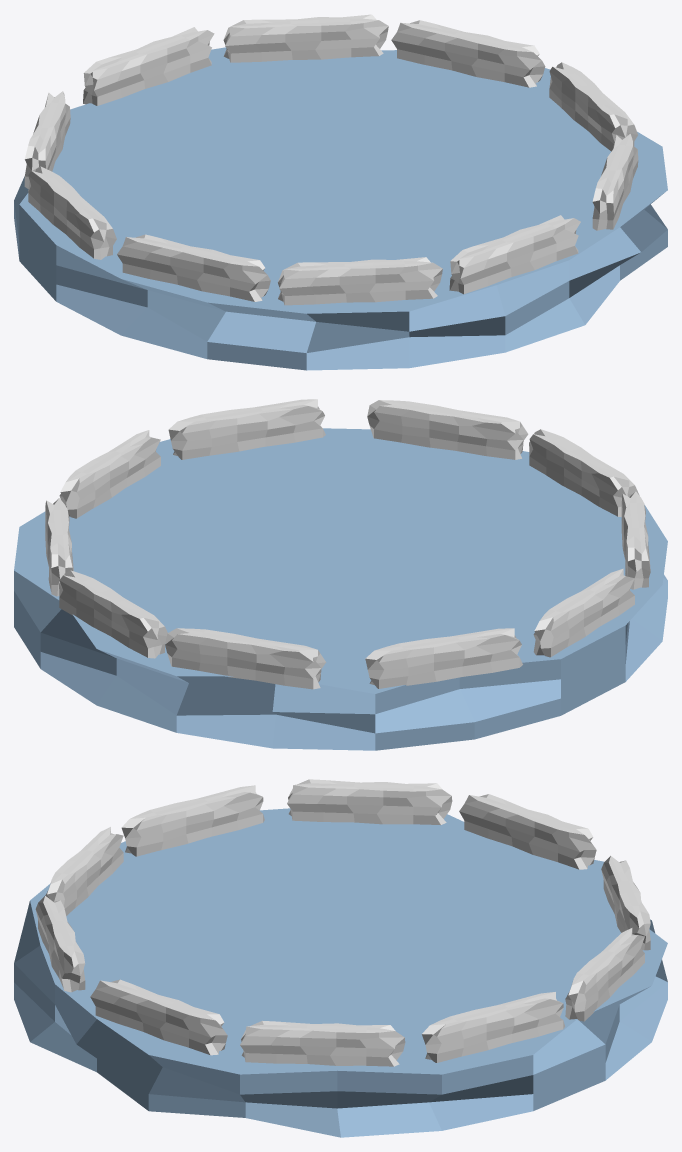
File: ArenaIced.gltf
3 renders of one model, top to bottom at view 1: azimuth 30°, elevation 25°; view 2: azimuth 150°, elevation 25°; view 3: azimuth 270°, elevation 25°, orthographic.
Parts seen in each view (by area): view 1: Cylinder, Cube.006, Cube.007, Cube.008, Cube.009, Cube.005, Cube.004, Cube.001, Cube, Cube.002, Cube.003; view 2: Cylinder, Cube.005, Cube.003, Cube.004, Cube.002, Cube.007, Cube.006, Cube.001, Cube, Cube.008, Cube.009; view 3: Cylinder, Cube.001, Cube, Cube.008, Cube.009, Cube.002, Cube.003, Cube.007, Cube.006, Cube.004, Cube.005.
Part boxes in pixels (x1=…): Cylinder: x1=14, y1=47, x2=667, y2=370; Cube.006: x1=277, y1=257, x2=442, y2=305; Cube.007: x1=223, y1=14, x2=388, y2=62; Cube.008: x1=117, y1=234, x2=270, y2=301; Cube.009: x1=391, y1=20, x2=545, y2=87; Cube.005: x1=83, y1=27, x2=214, y2=105; Cube.004: x1=449, y1=215, x2=580, y2=294; Cube.001: x1=28, y1=166, x2=116, y2=259; Cube: x1=549, y1=62, x2=637, y2=151; Cube.002: x1=592, y1=134, x2=638, y2=230; Cube.003: x1=24, y1=91, x2=70, y2=188; Cylinder: x1=14, y1=428, x2=667, y2=750; Cube.005: x1=165, y1=628, x2=326, y2=689; Cube.003: x1=365, y1=628, x2=522, y2=688; Cube.004: x1=367, y1=400, x2=528, y2=459; Cube.002: x1=168, y1=399, x2=325, y2=459; Cube.007: x1=59, y1=570, x2=167, y2=658; Cube.006: x1=529, y1=429, x2=639, y2=516; Cube.001: x1=533, y1=568, x2=634, y2=657; Cube: x1=59, y1=430, x2=160, y2=518; Cube.008: x1=621, y1=491, x2=650, y2=589; Cube.009: x1=45, y1=498, x2=73, y2=596; Cylinder: x1=14, y1=808, x2=667, y2=1137; Cube.001: x1=287, y1=779, x2=452, y2=825; Cube: x1=240, y1=1020, x2=405, y2=1066; Cube.008: x1=121, y1=785, x2=264, y2=856; Cube.009: x1=422, y1=992, x2=564, y2=1062; Cube.002: x1=90, y1=979, x2=227, y2=1055; Cube.003: x1=459, y1=794, x2=596, y2=869; Cube.007: x1=565, y1=928, x2=644, y2=1021; Cube.006: x1=45, y1=827, x2=123, y2=915; Cube.004: x1=35, y1=896, x2=85, y2=992; Cube.005: x1=601, y1=856, x2=650, y2=950.
Bounding box in the file's own units: 43.85 × 6.64 × 43.85.
